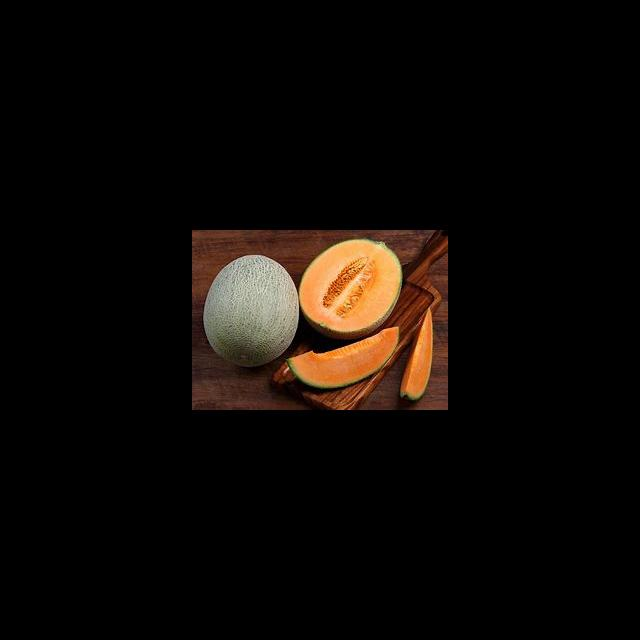Hami Melon: (202, 254, 300, 367), (301, 238, 404, 332), (285, 327, 401, 388), (401, 307, 434, 402)
